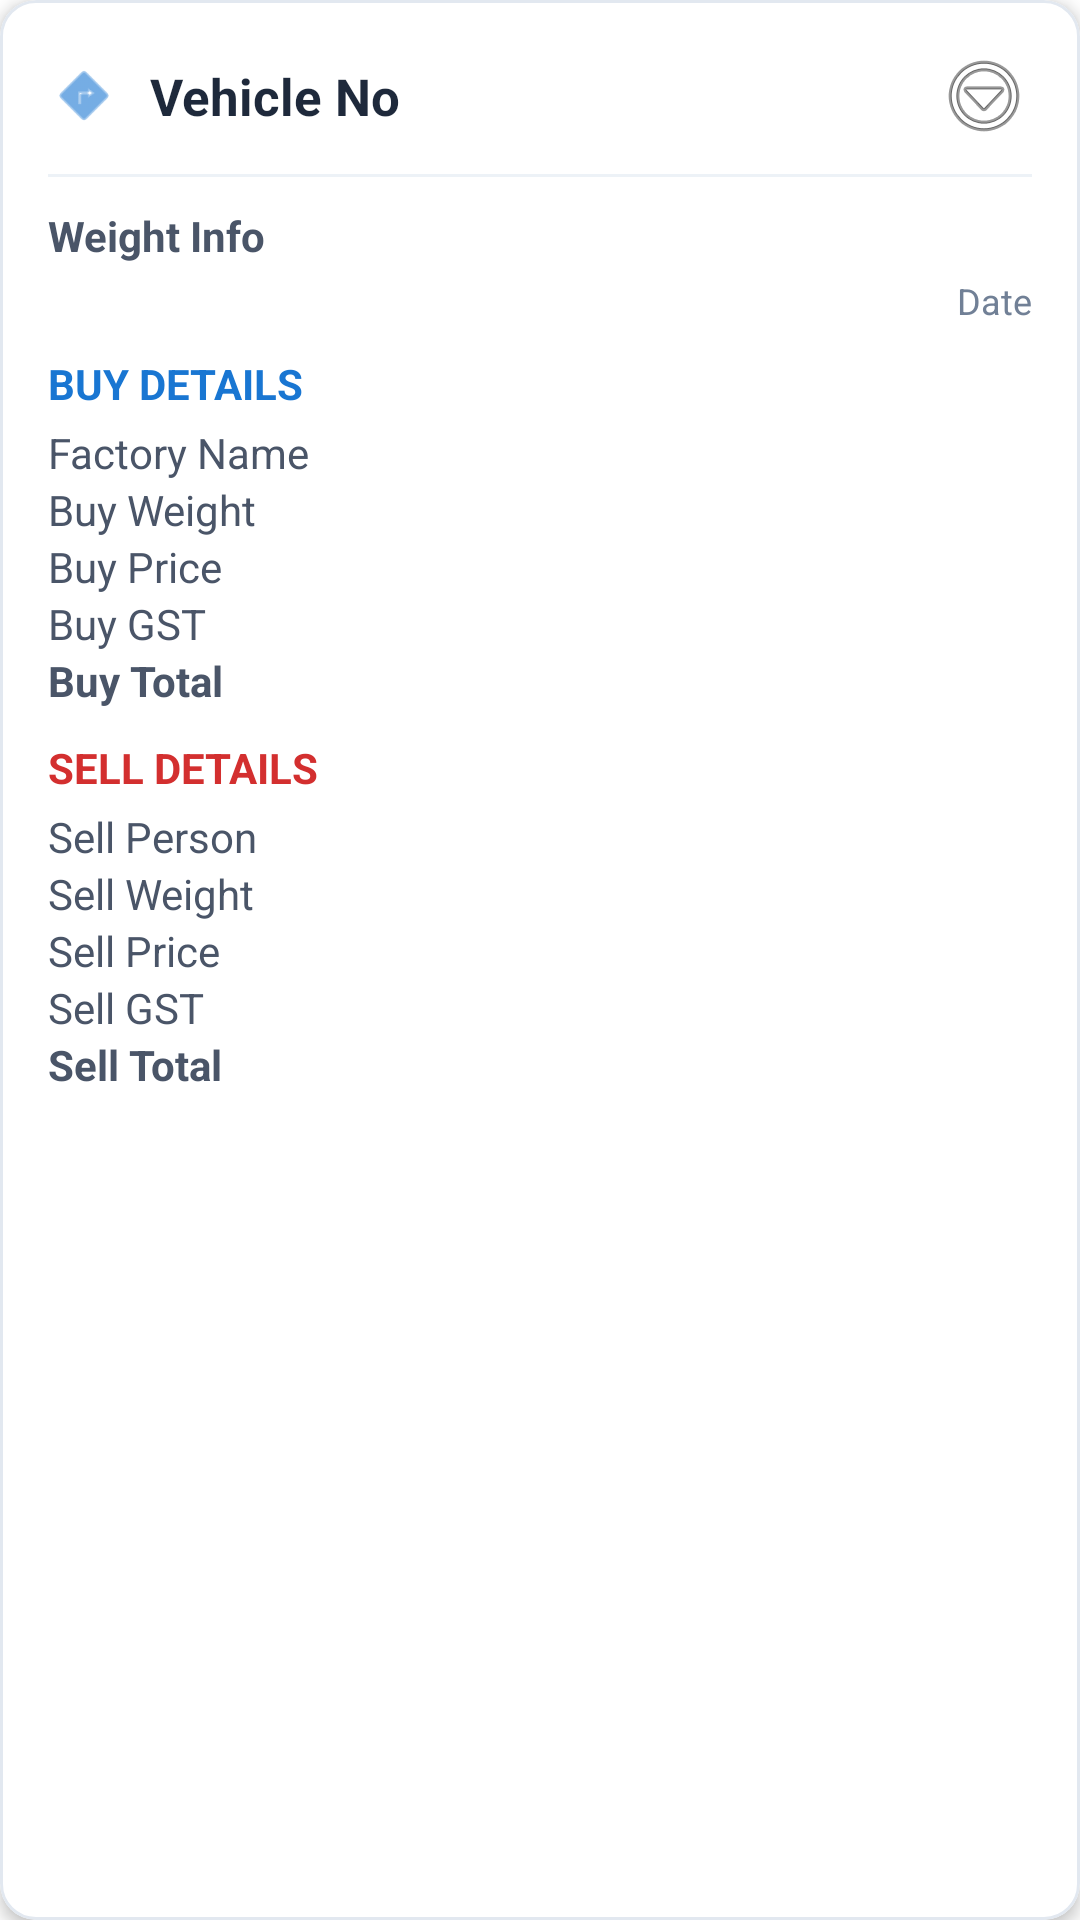

Point at icon controls on the screen. Image size 1080w x 1920h, points as point (x, y).
directions: point (84, 95)
